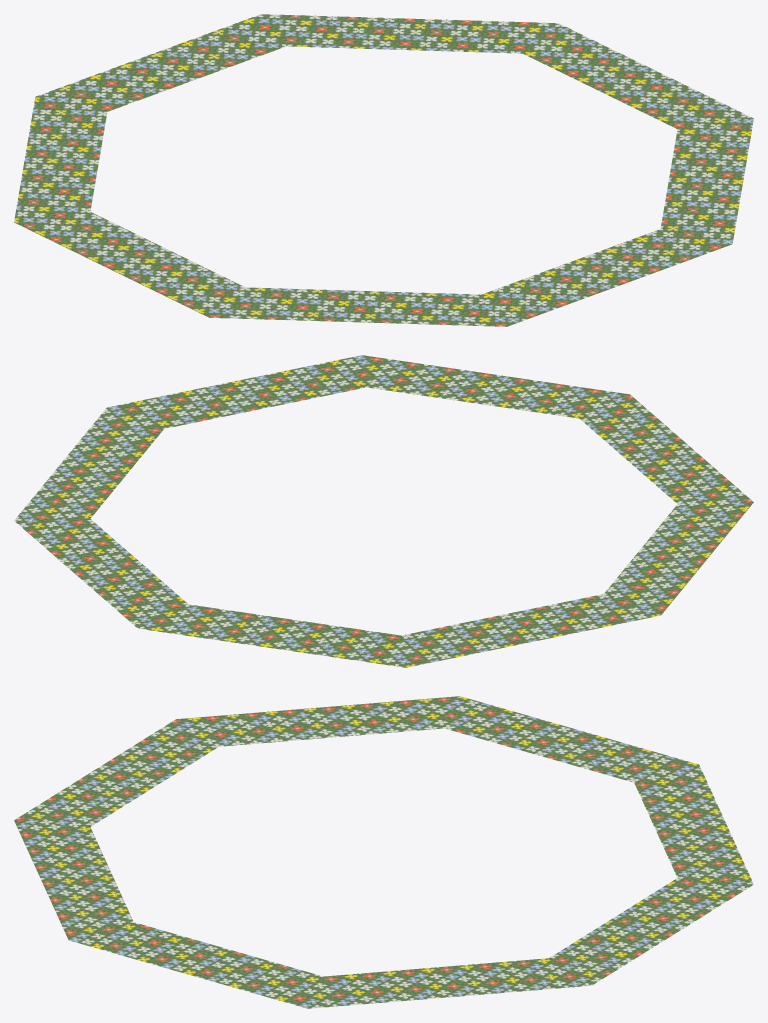
The model's file is kd_stage_136599_18_13.glb.
3 views of the same model, one above another, from view 1: azimuth 30°, elevation 25°; view 2: azimuth 150°, elevation 25°; view 3: azimuth 270°, elevation 25° (orthographic). The views are drawn at different scales.
Visible parts, largest first — view 1: kd_stage_136599_18_13; view 2: kd_stage_136599_18_13; view 3: kd_stage_136599_18_13.
Boxes of the visible parts, left/top/right/bottom form: kd_stage_136599_18_13: left=14, top=14, right=753, bottom=326; kd_stage_136599_18_13: left=14, top=355, right=753, bottom=667; kd_stage_136599_18_13: left=14, top=696, right=753, bottom=1008.
Bounding box in the file's own units: 6.17 × 0 × 6.17.
Materials: 1 (1 with a texture image).
